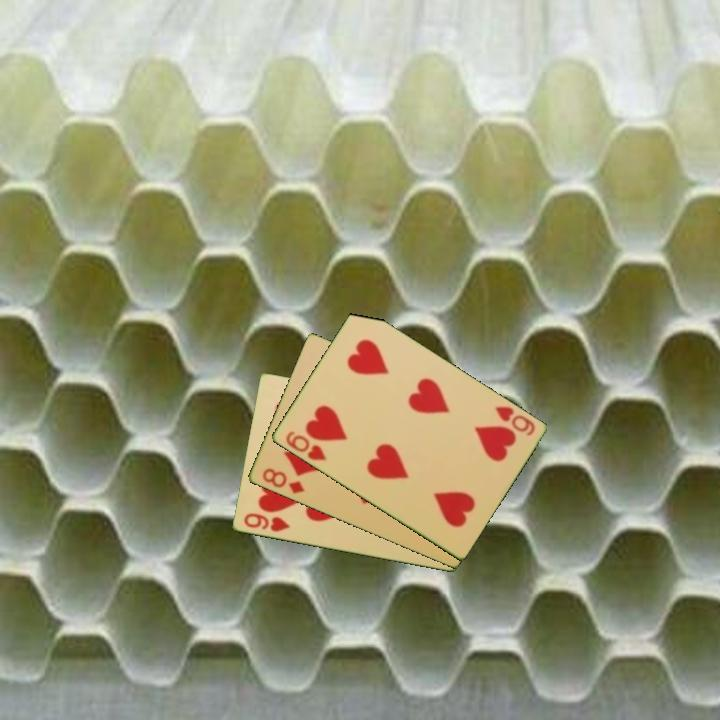6h: (282, 427, 329, 464), (491, 403, 538, 439)
8d: (258, 465, 307, 497)
9h: (240, 510, 293, 535)
